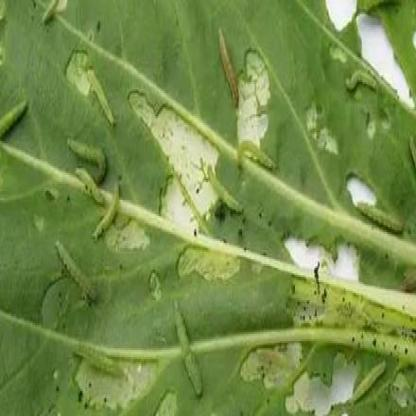armyworm: (65, 131, 125, 245), (54, 232, 102, 312), (215, 21, 245, 113), (350, 342, 389, 408), (206, 157, 246, 219), (357, 195, 408, 242), (87, 60, 118, 133), (237, 134, 280, 175), (0, 91, 32, 145), (344, 67, 380, 98)
